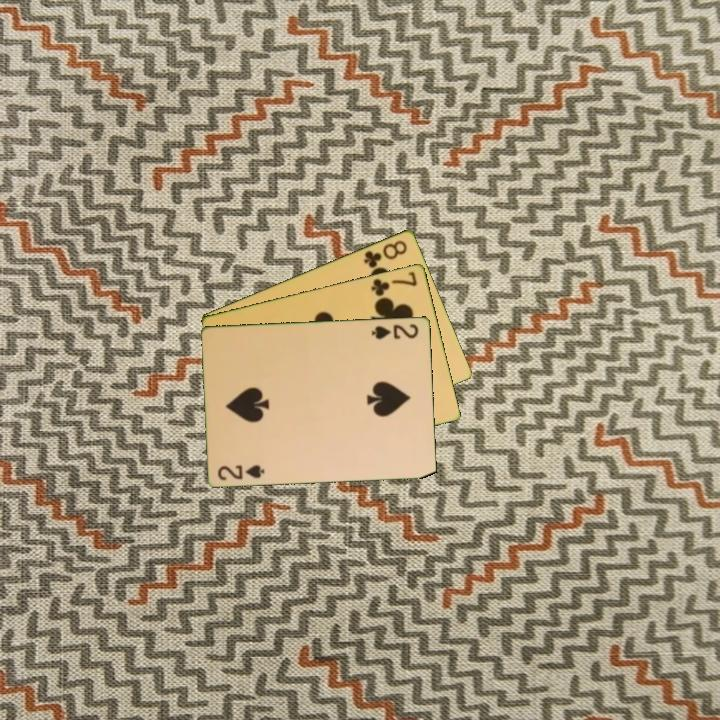2s: (368, 320, 422, 342), (214, 461, 268, 483)
7c: (368, 268, 420, 299)
8c: (360, 236, 410, 271)
